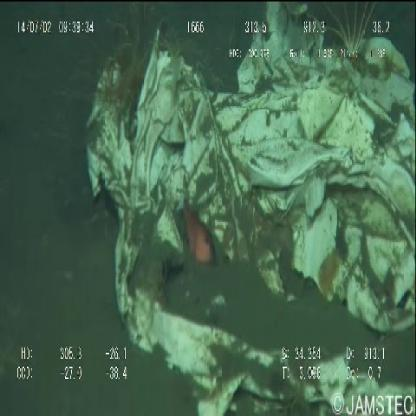Rác: (80, 1, 416, 416)
